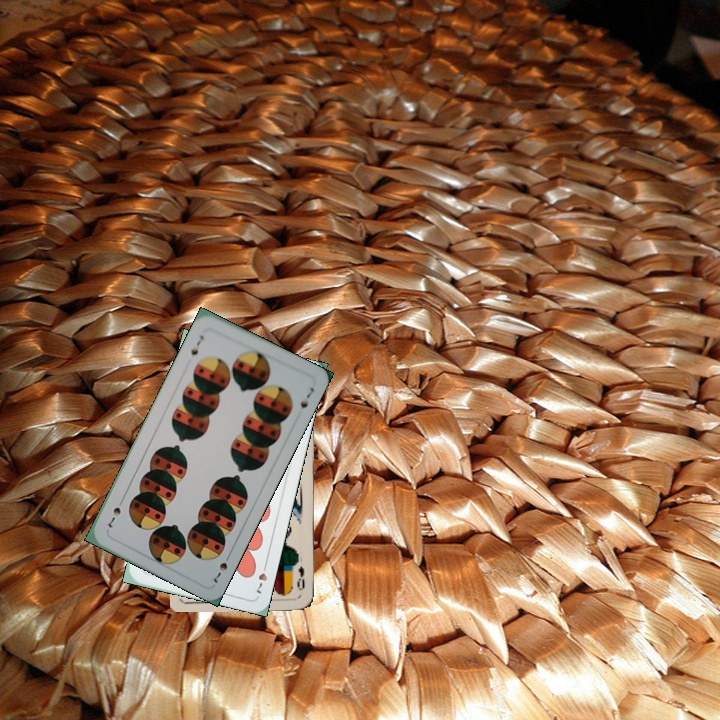EO: (293, 562, 307, 593)
H7: (251, 558, 270, 597)
S7: (209, 549, 234, 586), (186, 331, 206, 358)
